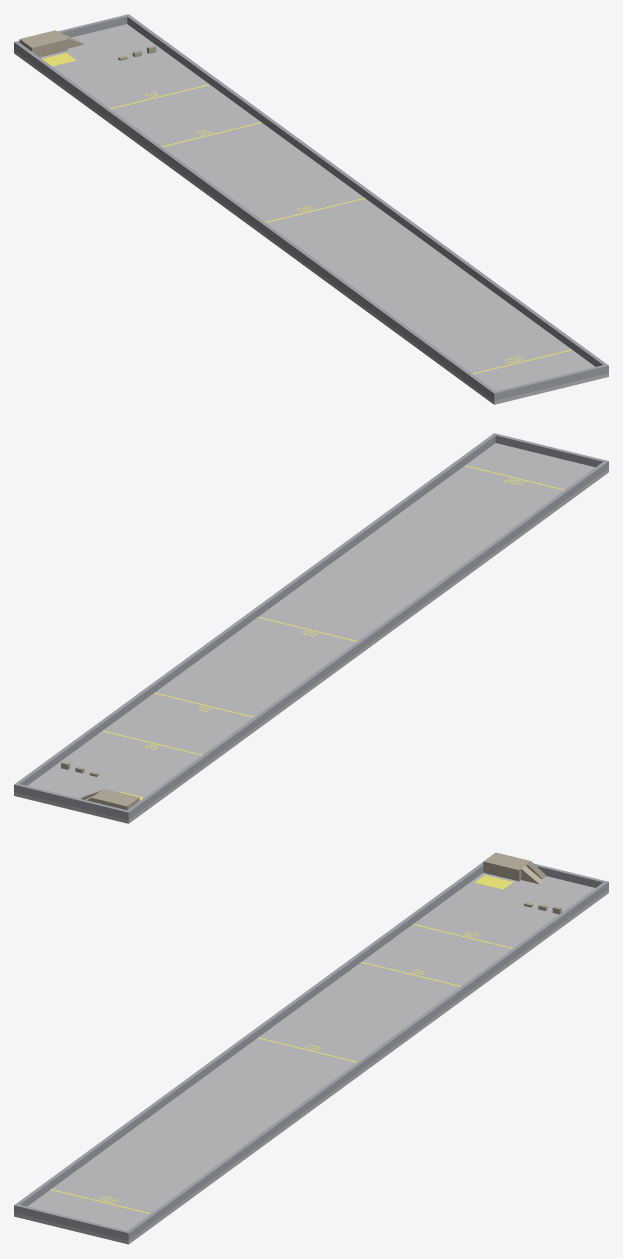
File: proving_ground.glb
The picture shows the model from 3 angles, top to bottom: view 1: azimuth 30°, elevation 25°; view 2: azimuth 150°, elevation 25°; view 3: azimuth 330°, elevation 25°; orthographic projection.
Parts seen in each view (by area): view 1: floor_node, wall_west_node, wall_east_node, wall_north_node, platform_node, wall_south_node; view 2: floor_node, wall_west_node, wall_east_node, wall_south_node, wall_north_node, platform_node; view 3: floor_node, wall_east_node, wall_west_node, wall_north_node, platform_node, wall_south_node.
Boxes of the visible parts, <box> form: floor_node: <box>14,24,608,404</box>; wall_west_node: <box>14,41,497,400</box>; wall_east_node: <box>125,14,608,373</box>; wall_north_node: <box>496,365,605,399</box>; platform_node: <box>19,30,67,57</box>; wall_south_node: <box>18,15,127,42</box>; floor_node: <box>14,443,608,823</box>; wall_west_node: <box>125,460,608,819</box>; wall_east_node: <box>14,433,497,792</box>; wall_south_node: <box>17,784,126,818</box>; wall_north_node: <box>495,434,604,467</box>; platform_node: <box>91,789,139,809</box>; floor_node: <box>14,873,608,1244</box>; wall_east_node: <box>125,881,608,1240</box>; wall_west_node: <box>14,862,483,1213</box>; wall_north_node: <box>17,1204,126,1239</box>; platform_node: <box>483,852,531,881</box>; wall_south_node: <box>533,863,604,887</box>.
Size of the model in its own units: 32 by 4 by 232.
